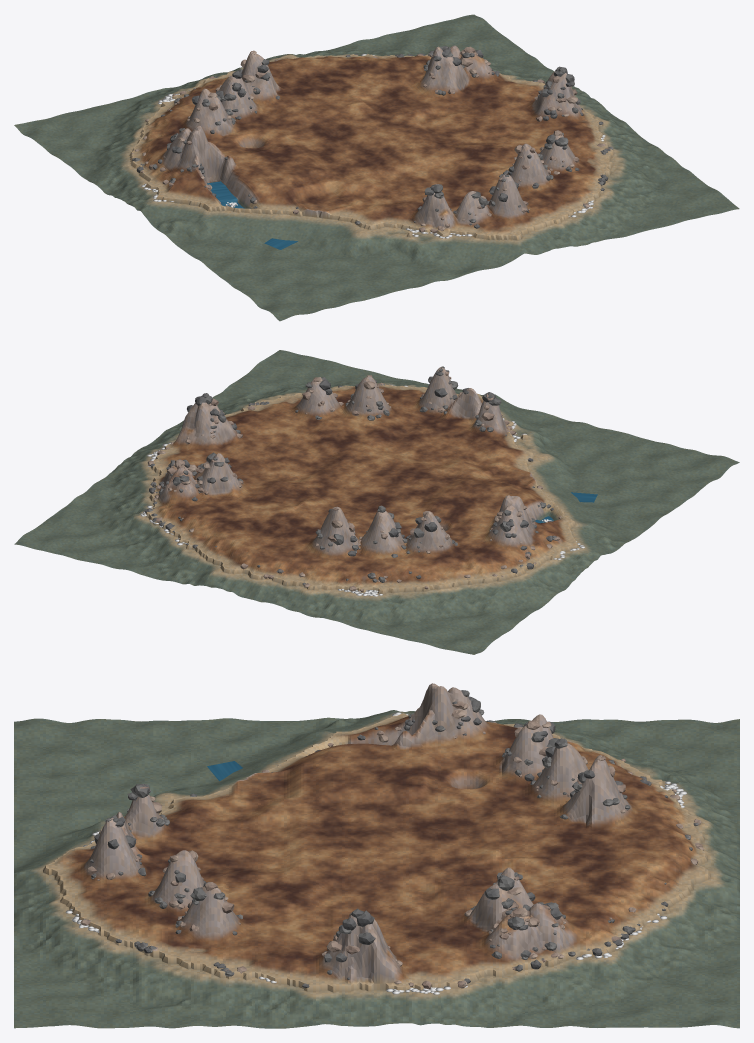
Rendered from Terrain_P3.fbx.
The picture shows the model from 3 angles, top to bottom: view 1: azimuth 30°, elevation 25°; view 2: azimuth 150°, elevation 25°; view 3: azimuth 270°, elevation 25°; orthographic projection. The views are drawn at different scales.
Parts seen in each view (by area): view 1: Ground, River, Surf; view 2: Ground, Surf; view 3: Ground, Surf.
Part boxes in pixels (x1,y1,x2,y2): Ground: (14, 14, 739, 321); River: (207, 181, 297, 249); Surf: (141, 53, 605, 238); Ground: (14, 350, 739, 654); Surf: (140, 384, 584, 596); Ground: (14, 683, 739, 1028); Surf: (65, 712, 686, 994).
Size of what is drawn, in the model's own units: 64000 by 9000 by 64000.
